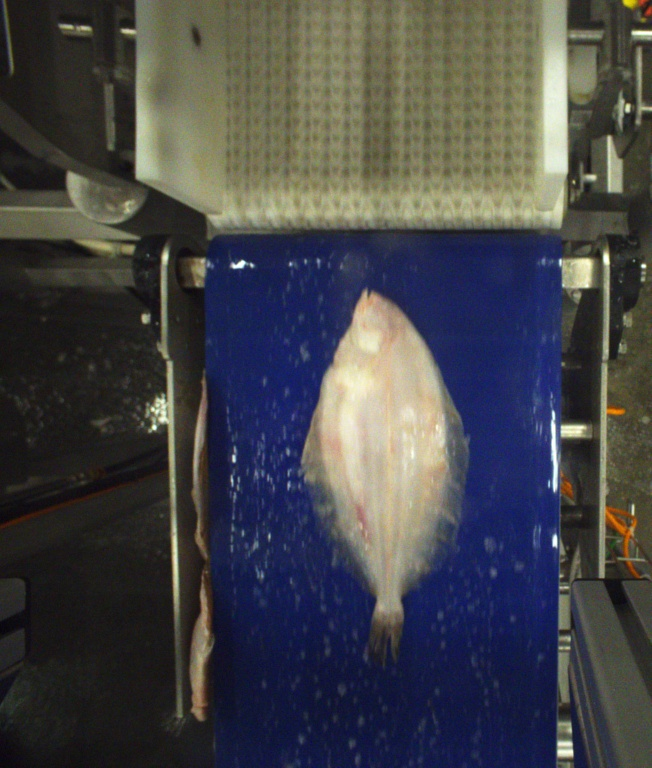WIT: (301, 287, 467, 669)
